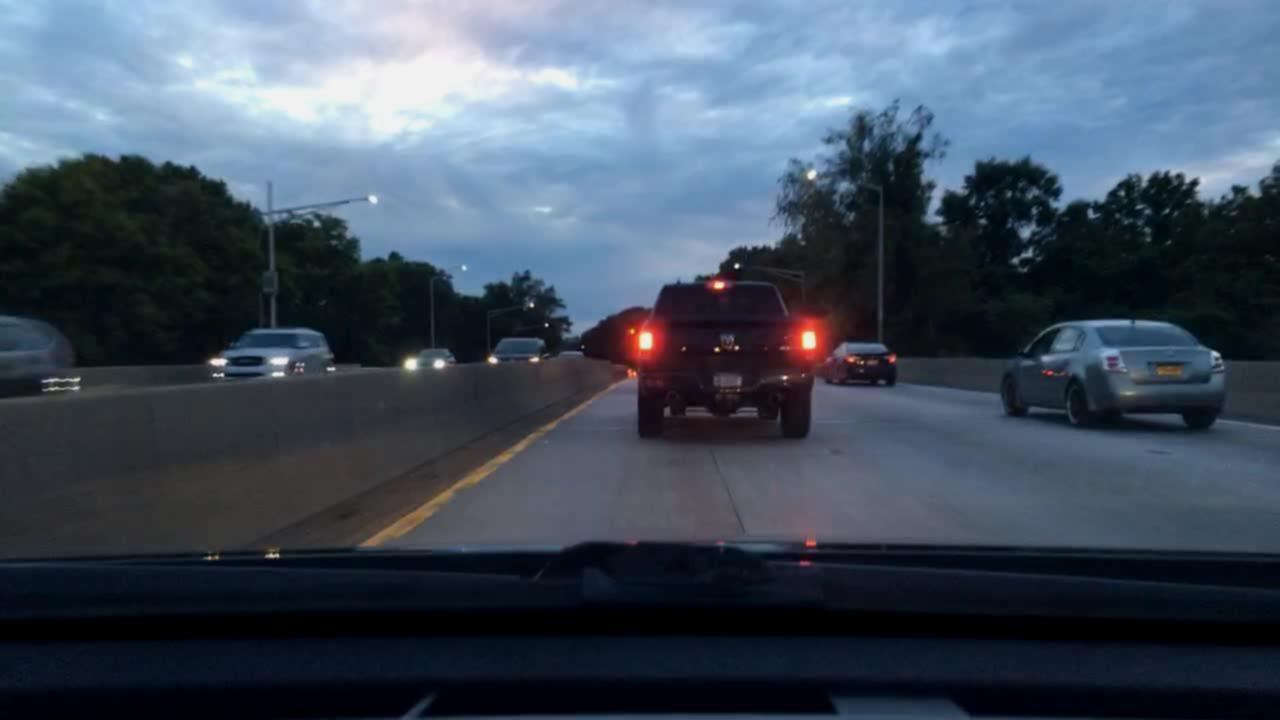ram: (715, 330, 745, 352)
